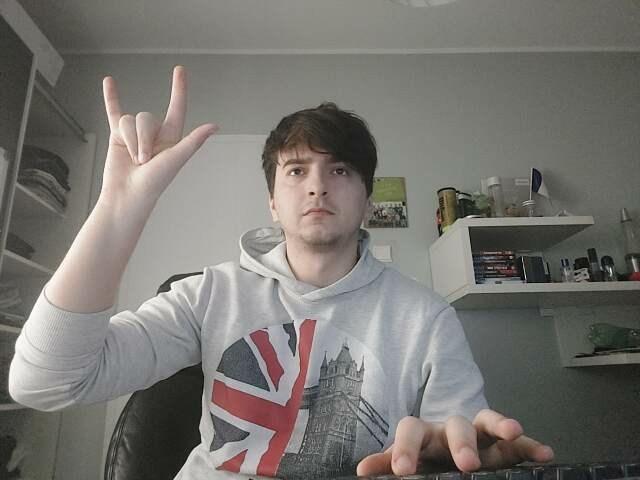love_you: (101, 66, 220, 190)
